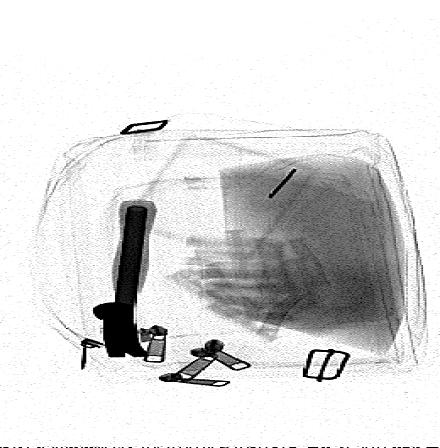Hammer: (89, 200, 159, 359)
